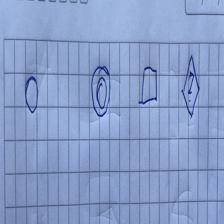association: (24, 75, 40, 112)
dissociation: (90, 66, 112, 116)
process: (138, 66, 158, 104)
replacement-glyph: (181, 56, 201, 118)
